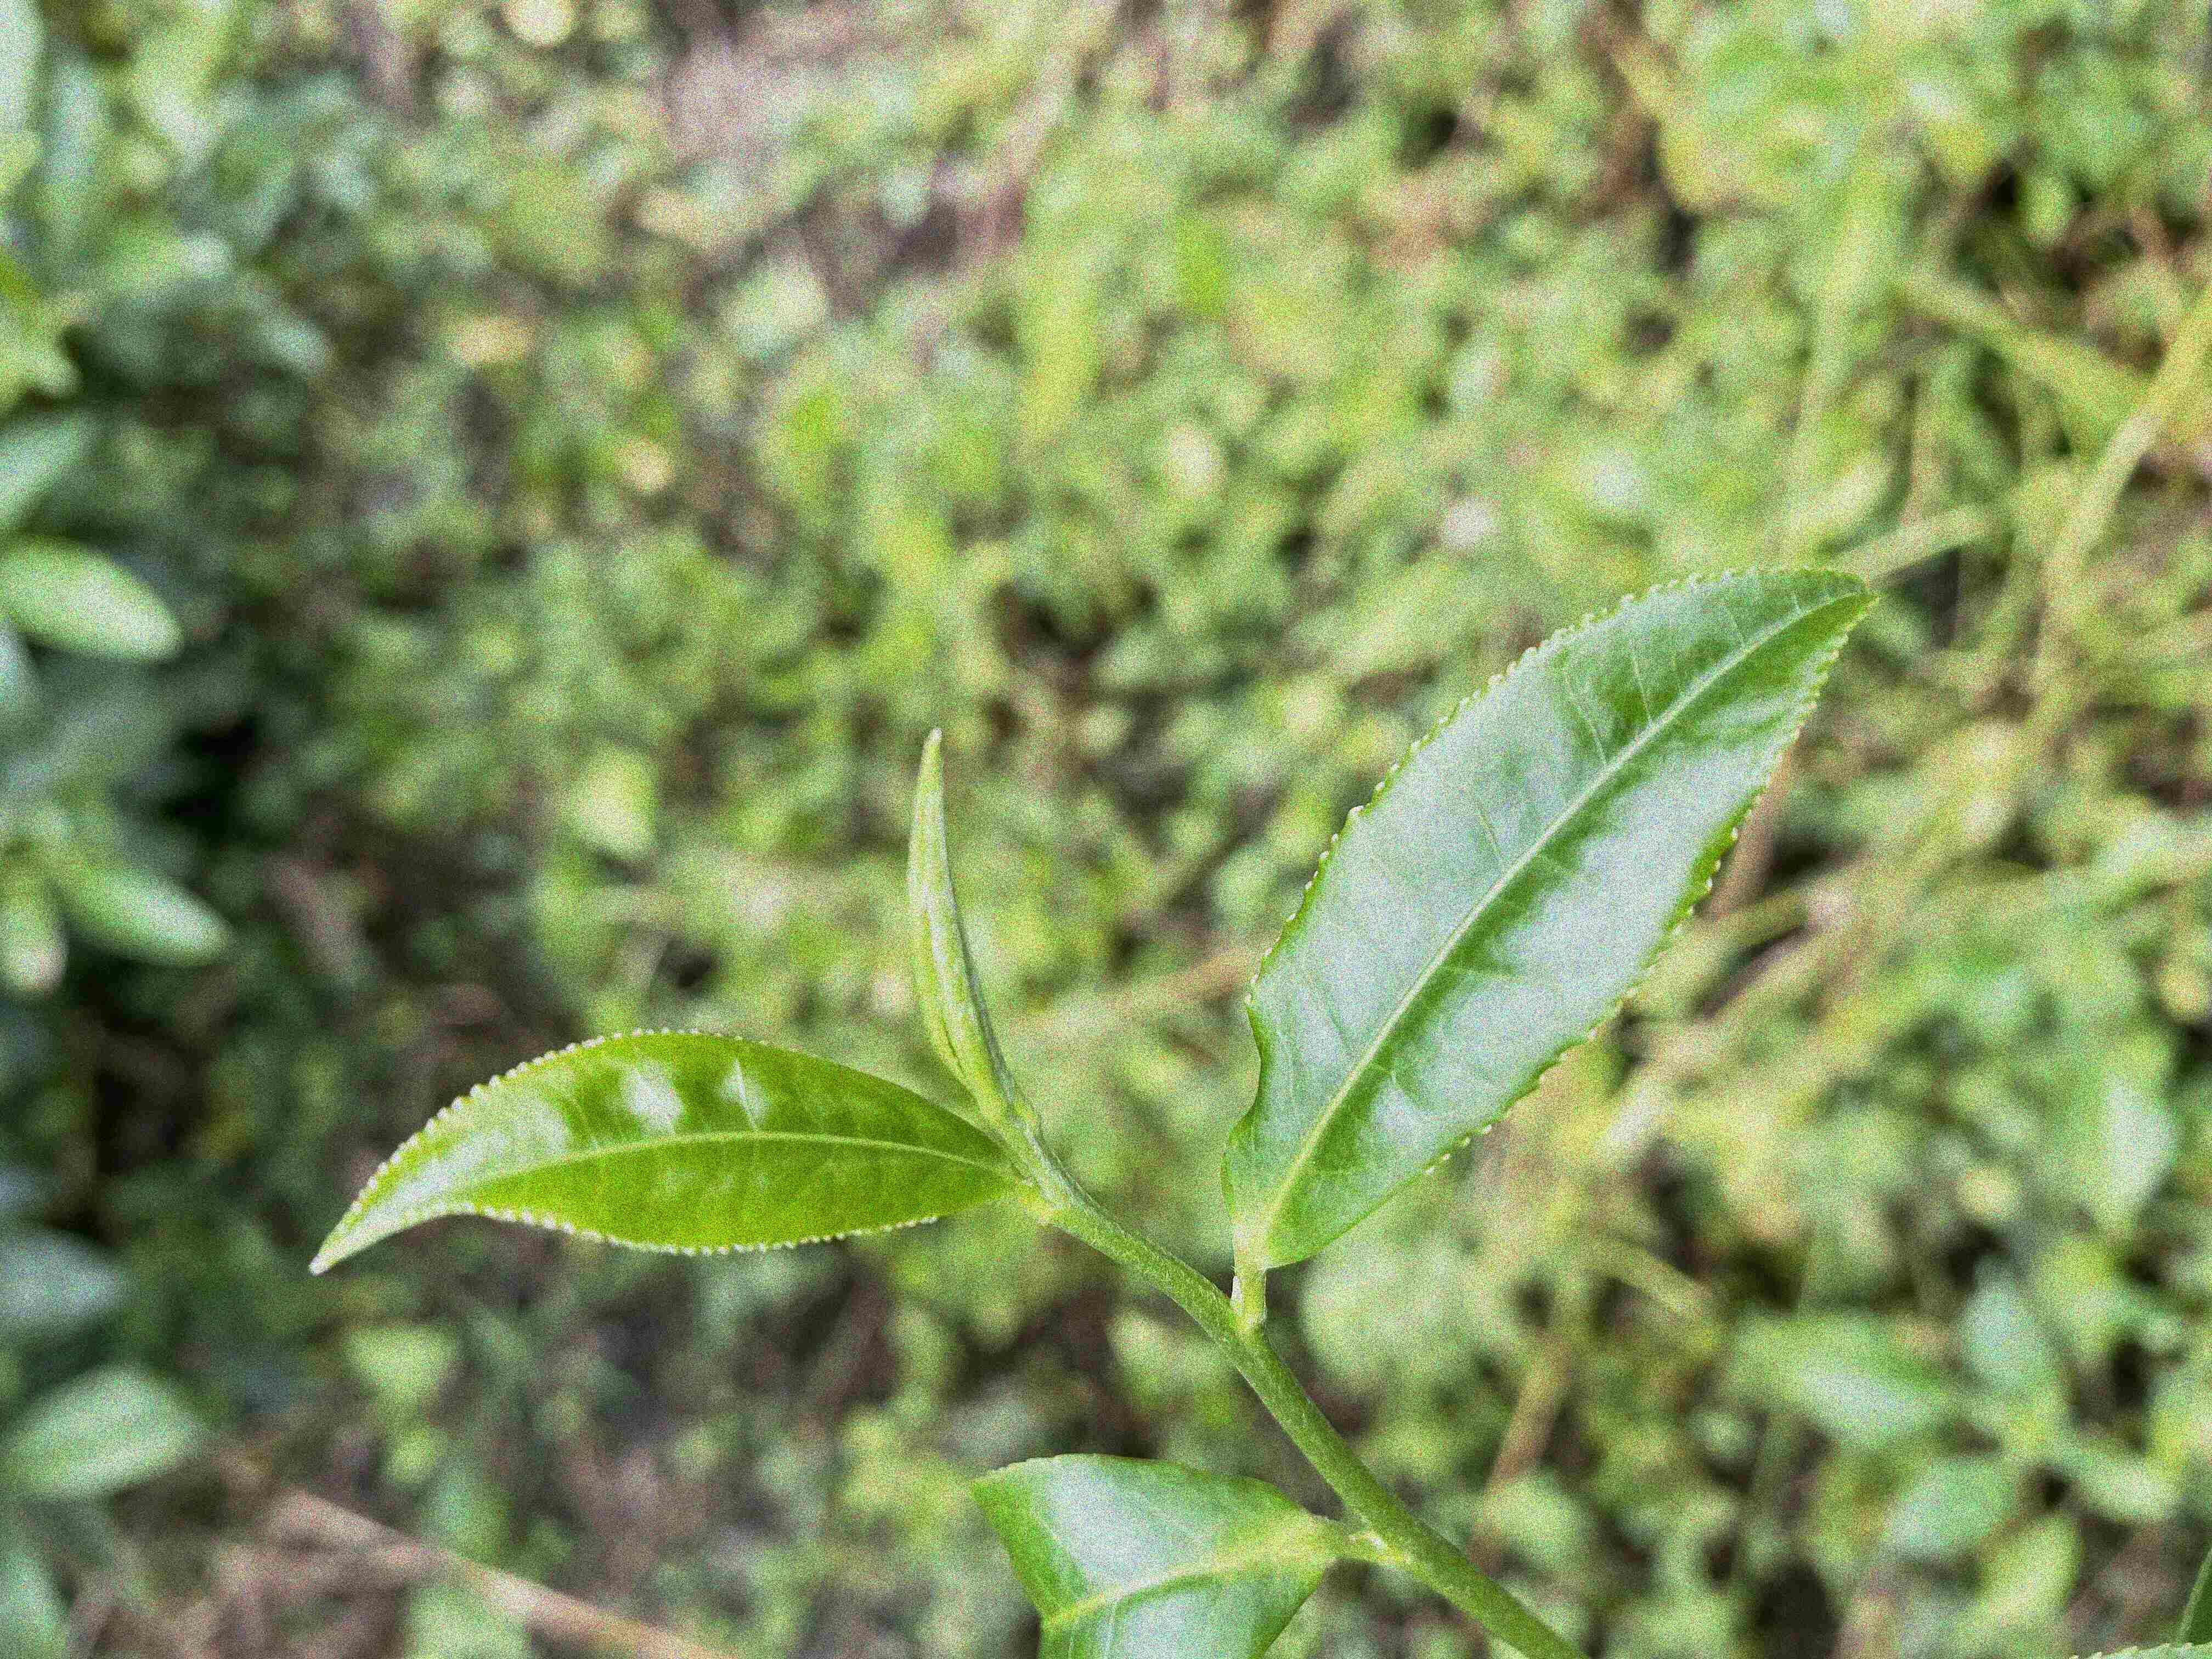healthy: (1216, 561, 1883, 1269), (305, 1025, 1026, 1279), (960, 1450, 1345, 1657)
